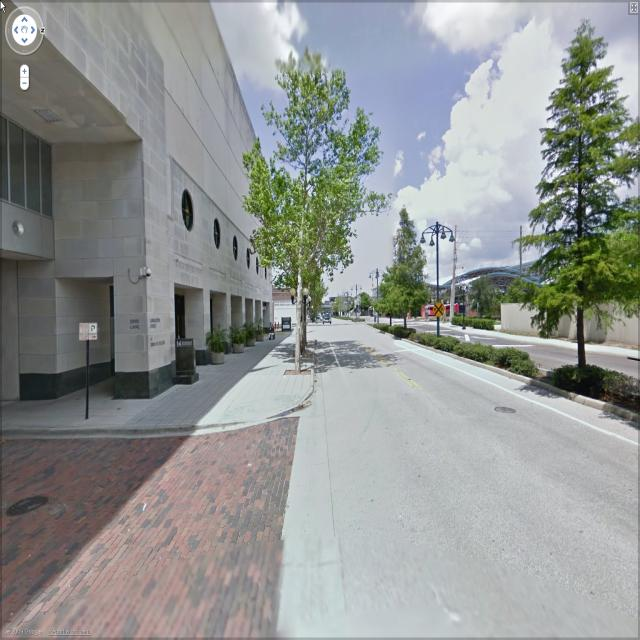b_1: (10, 1, 265, 334)
